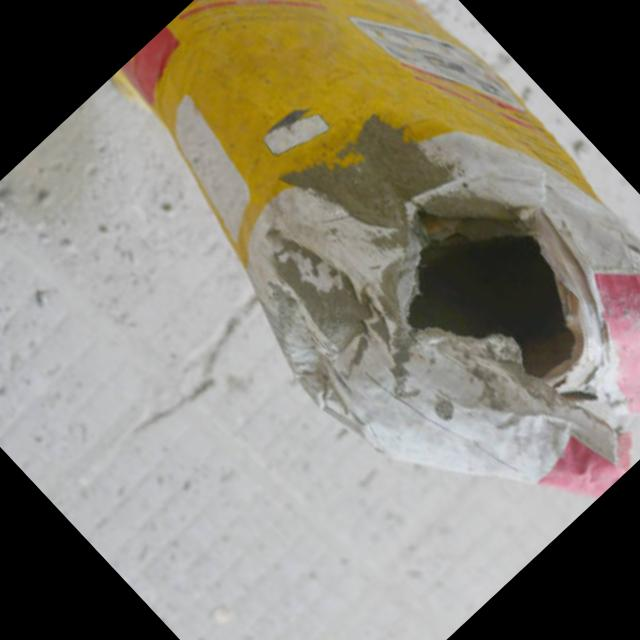KantongSemen: (56, 0, 640, 598)
